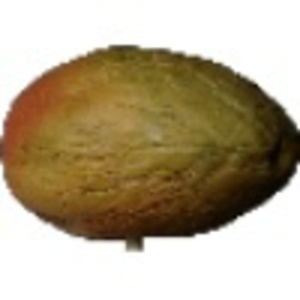mamão: (1, 42, 295, 239)
